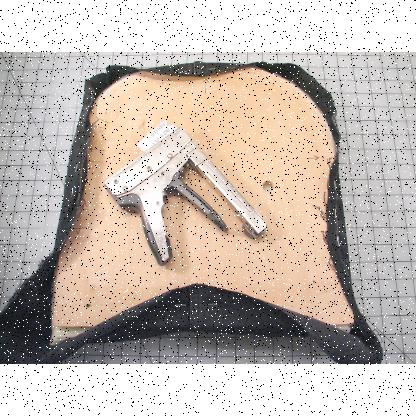gun: (101, 124, 267, 264)
